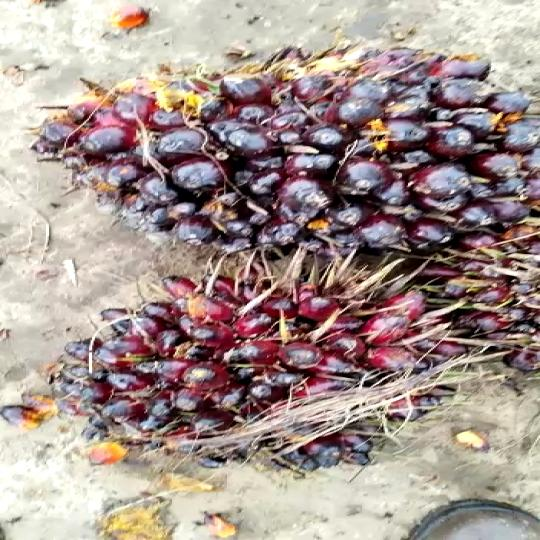kurang masak: (31, 42, 540, 255), (46, 259, 468, 465)
